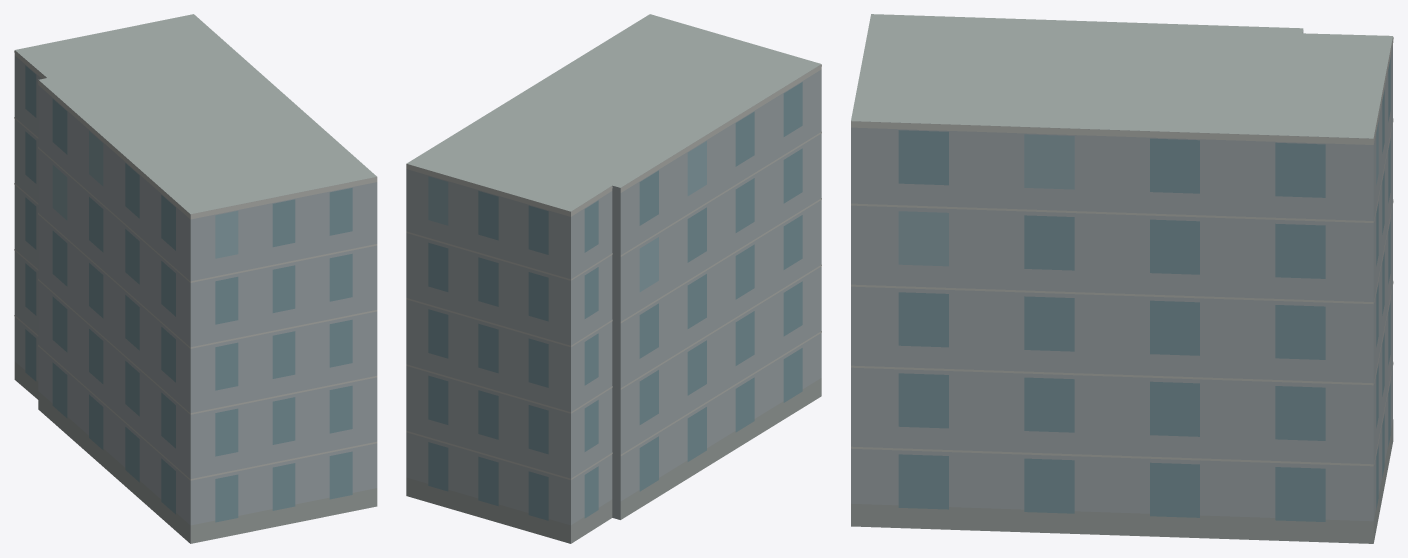
The model's file is survey-upis-32822874.glb.
3 renders of one model, left to right at view 1: azimuth 30°, elevation 25°; view 2: azimuth 150°, elevation 25°; view 3: azimuth 270°, elevation 25°, orthographic. The views are drawn at different scales.
Parts seen in each view (by area): view 1: survey-upis-32822874.tmp; view 2: survey-upis-32822874.tmp; view 3: survey-upis-32822874.tmp.
Part boxes in pixels (bbox=[...]): survey-upis-32822874.tmp: bbox=[14, 14, 377, 543]; survey-upis-32822874.tmp: bbox=[406, 14, 821, 543]; survey-upis-32822874.tmp: bbox=[851, 14, 1393, 543].
Bounding box in the file's own units: 10.08 × 15.25 × 18.52.
